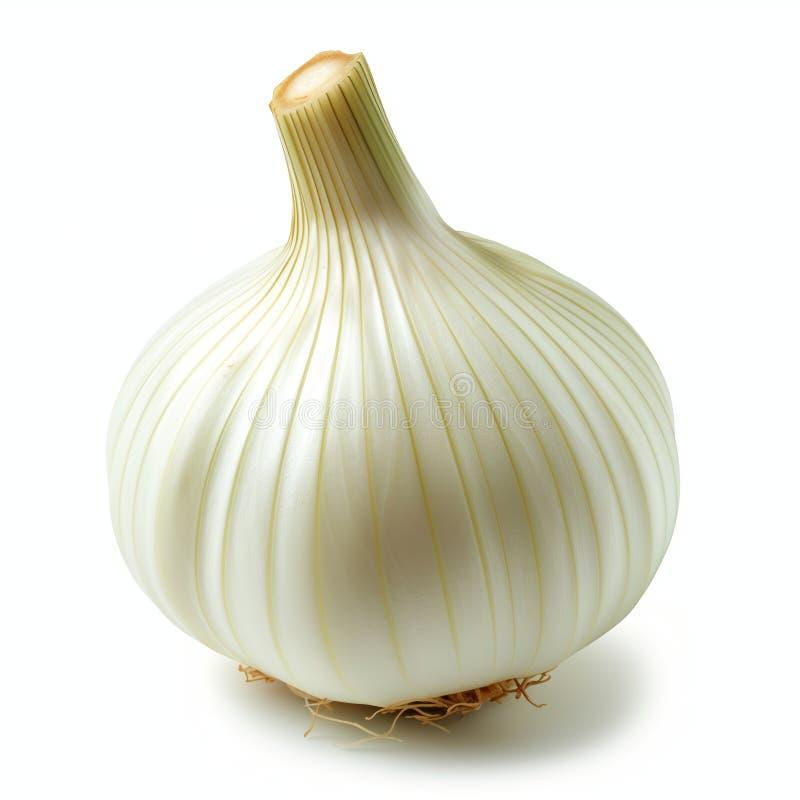Garlic: (108, 54, 678, 706)
